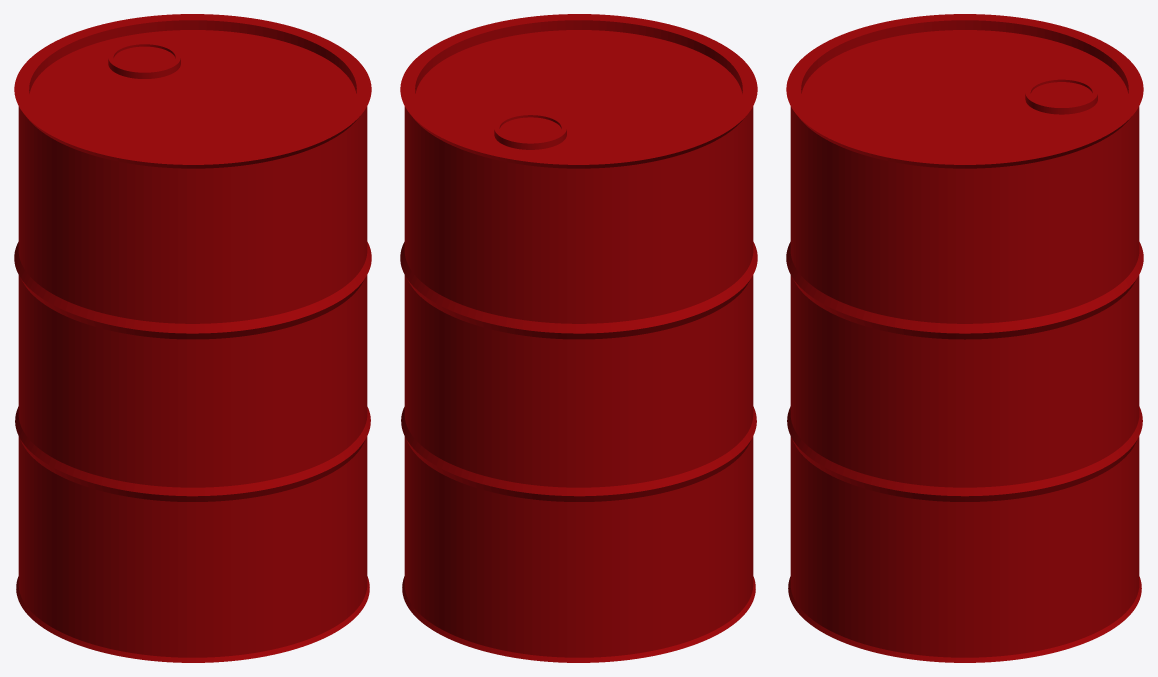
File: other_barrel.glb
3 views of the same model, side by side, from view 1: azimuth 30°, elevation 25°; view 2: azimuth 150°, elevation 25°; view 3: azimuth 270°, elevation 25° (orthographic).
Visible parts, largest first — view 1: Cylinder; view 2: Cylinder; view 3: Cylinder.
Part boxes in pixels (x1,y1,x2,y2): Cylinder: [14, 14, 371, 662]; Cylinder: [400, 14, 757, 662]; Cylinder: [786, 14, 1143, 662].
Bounding box in the file's own units: 2.05 × 3.16 × 2.05.
